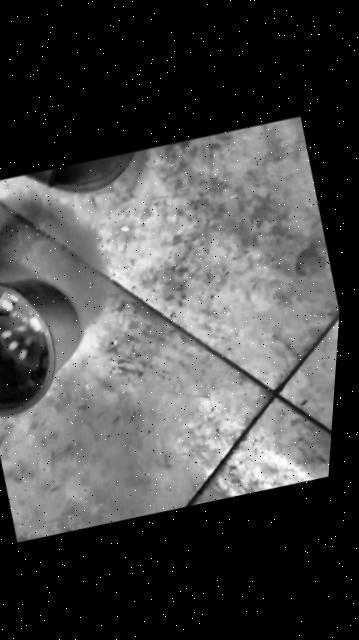pot: (0, 255, 101, 425)
